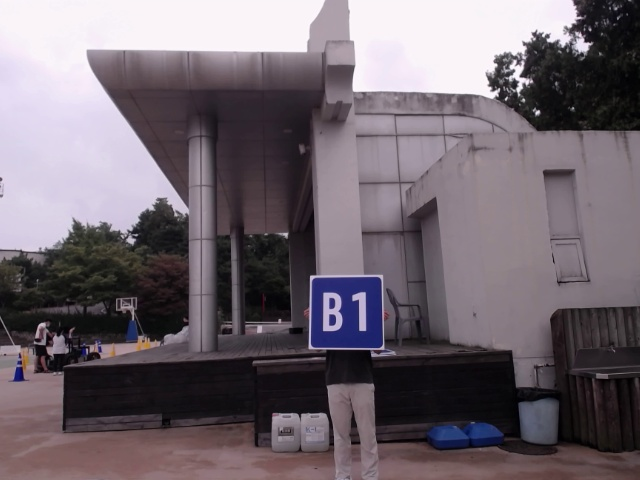delivery_b1: (310, 275, 384, 350)
